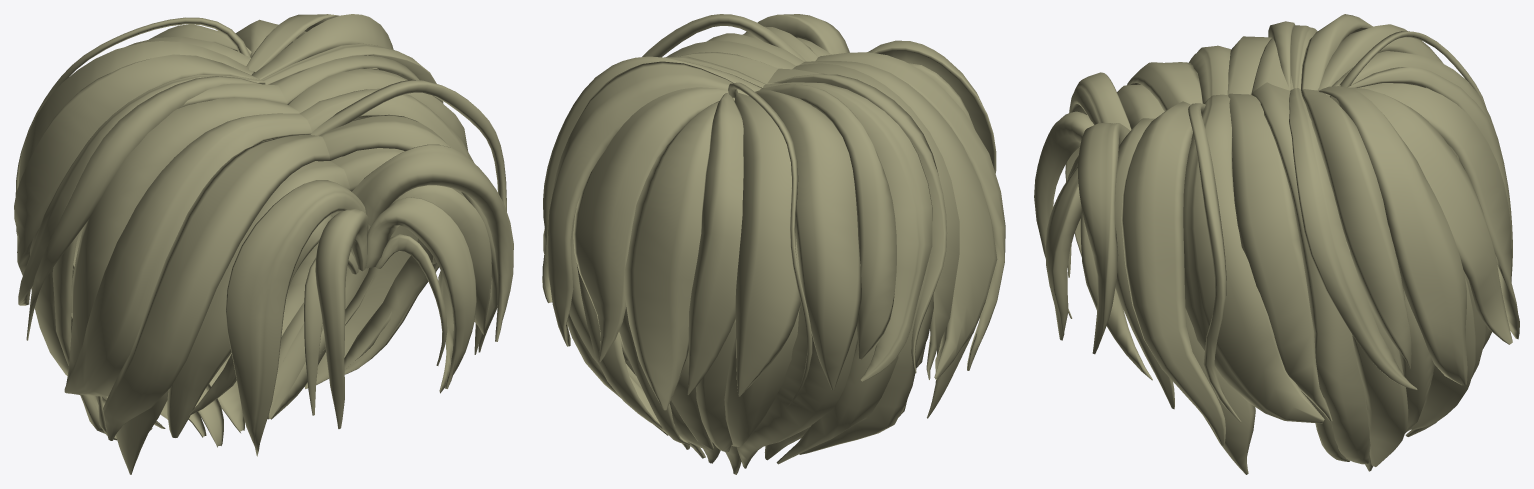
File: SM_Hair_Comma.fbx
3 renders of one model, left to right at view 1: azimuth 30°, elevation 25°; view 2: azimuth 150°, elevation 25°; view 3: azimuth 270°, elevation 25°, orthographic. The views are drawn at different scales.
Visible parts, largest first — view 1: SM_Hair_Comma; view 2: SM_Hair_Comma; view 3: SM_Hair_Comma.
Part boxes in pixels (left/top/right/bottom): SM_Hair_Comma: left=14, top=14, right=513, bottom=474; SM_Hair_Comma: left=542, top=14, right=1005, bottom=474; SM_Hair_Comma: left=1034, top=14, right=1519, bottom=474.
Bounding box in the file's own units: 19.54 × 19.51 × 20.96.
